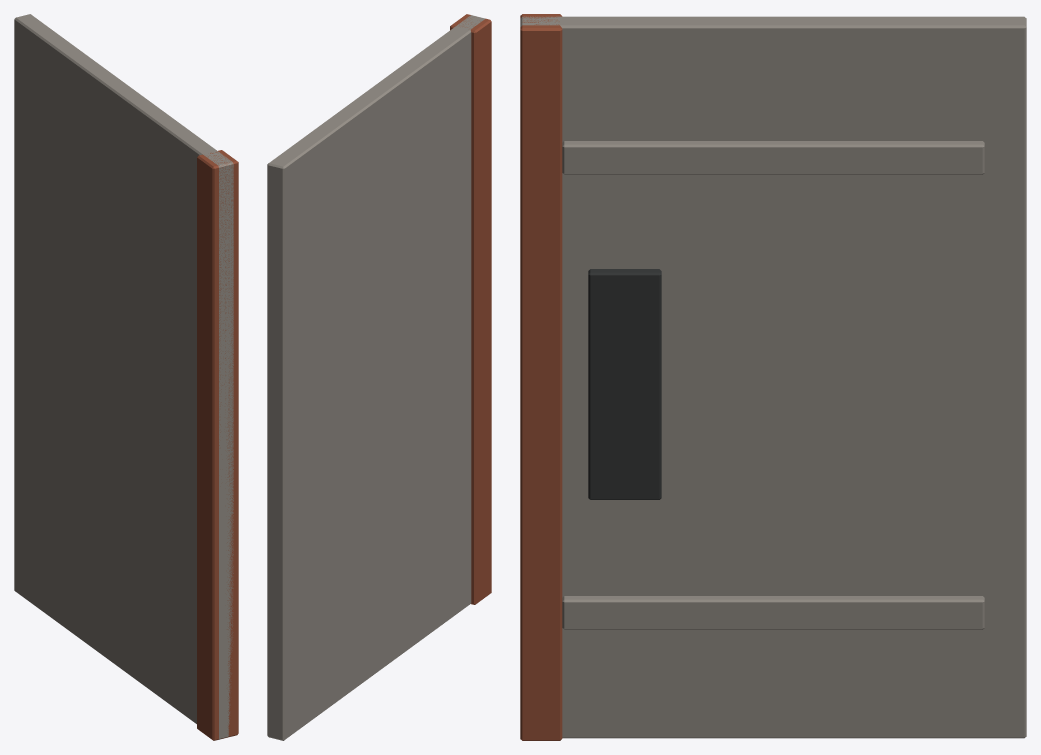
File: folding_crate_right_wall.glb
The picture shows the model from 3 angles, left to right: view 1: azimuth 30°, elevation 25°; view 2: azimuth 150°, elevation 25°; view 3: azimuth 270°, elevation 25°; orthographic projection. The views are drawn at different scales.
Parts seen in each view (by area): view 1: folding_crate_right_wall.001; view 2: folding_crate_right_wall.001; view 3: folding_crate_right_wall.001.
Part boxes in pixels (<box>): folding_crate_right_wall.001: <box>14,14,238,740</box>; folding_crate_right_wall.001: <box>267,14,491,740</box>; folding_crate_right_wall.001: <box>520,14,1026,740</box>.
Bounding box in the file's own units: 0.021 × 0.376 × 0.242.
